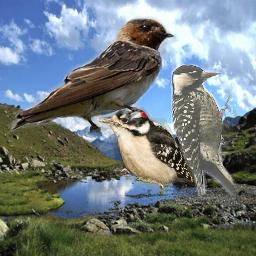Swallow: (7, 15, 176, 137)
Woodpecker: (171, 64, 240, 199), (96, 107, 196, 195)
